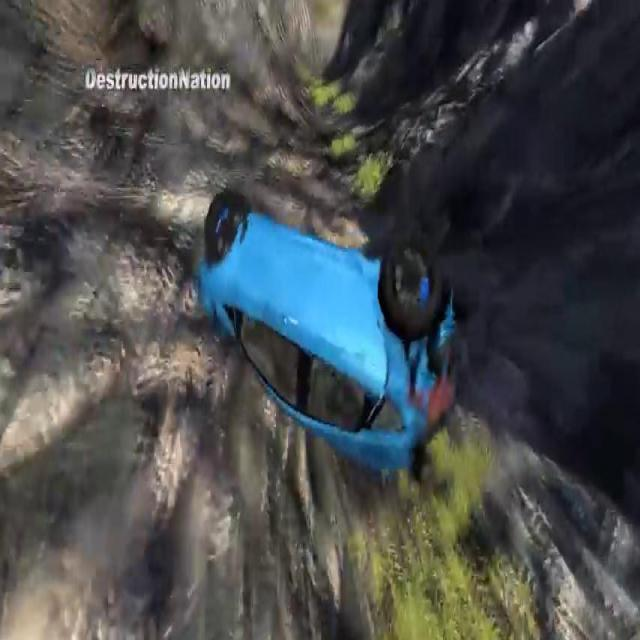severe: (186, 178, 466, 490)
